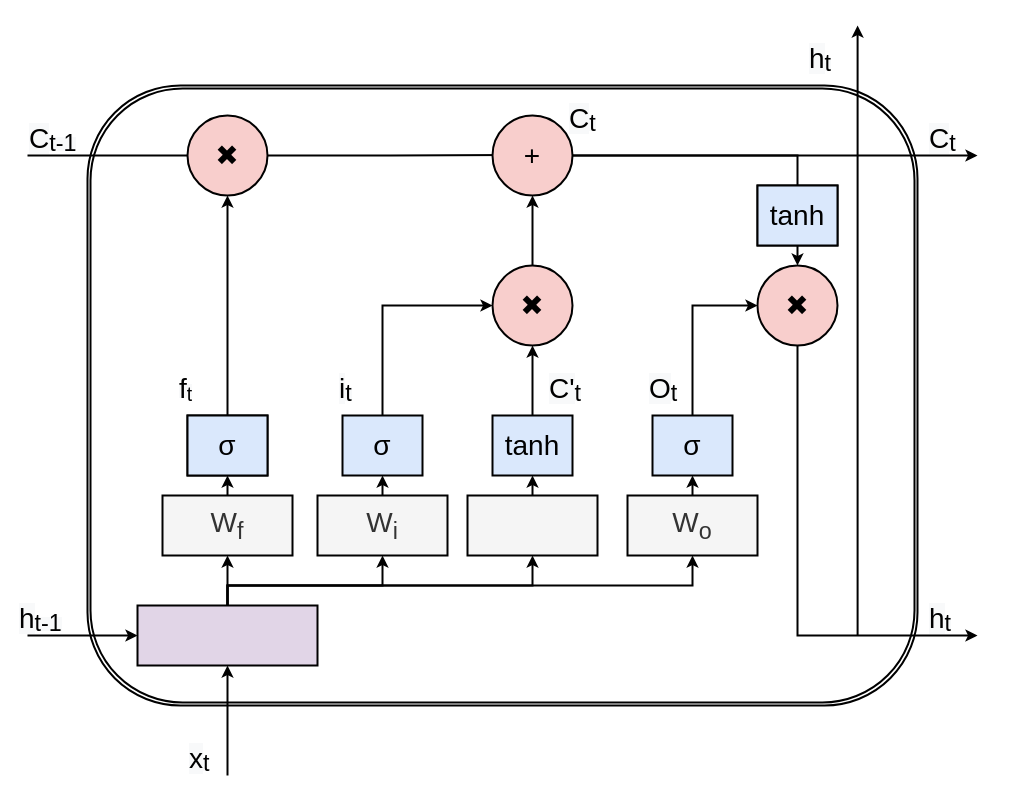
Some shapes in this 1024 by 801 pixel diagram are drawn without their labels. The centre of each missing label's shape, as x and y in pixels:
concatenated: the point at 227,635
W c: the point at 532,525
